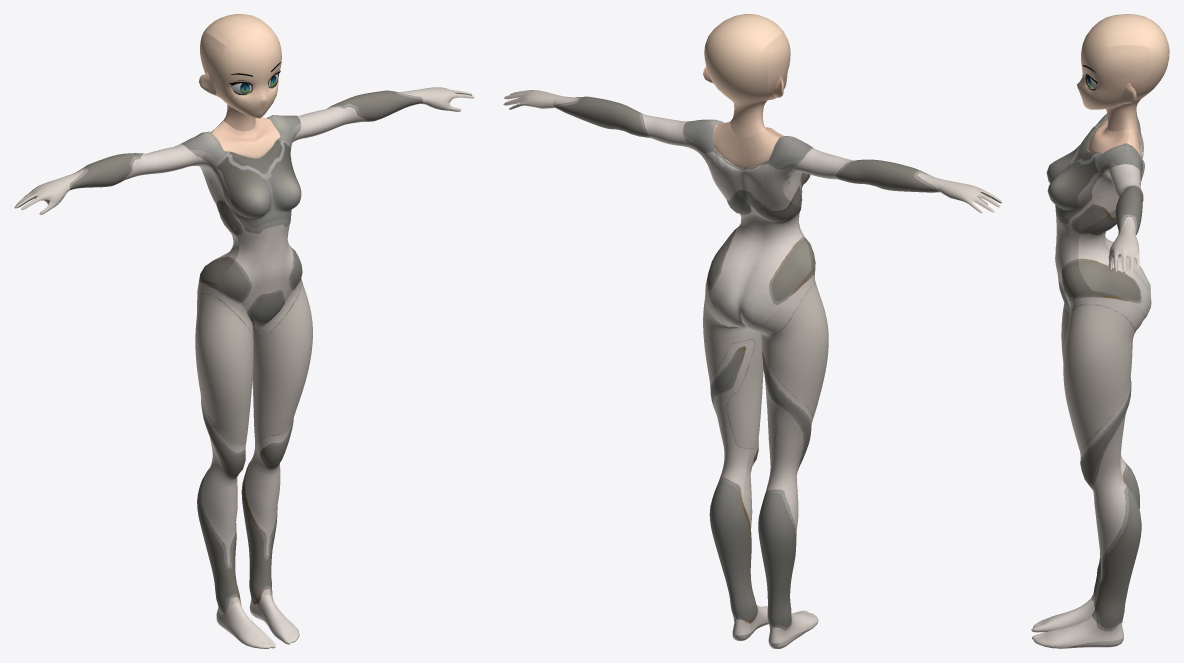
Rendered from clonex.fbx.
3 renders of one model, left to right at view 1: azimuth 30°, elevation 25°; view 2: azimuth 150°, elevation 25°; view 3: azimuth 270°, elevation 25°, orthographic. The views are drawn at different scales.
Parts seen in each view (by area): view 1: body.001; view 2: body.001; view 3: body.001.
Part boxes in pixels (bbox=[...]): body.001: bbox=[14, 14, 474, 648]; body.001: bbox=[503, 14, 1002, 648]; body.001: bbox=[1031, 14, 1169, 648].
Size of the model in its own units: 132 by 162 by 32.7.
Materials: 1 (1 with a texture image).
